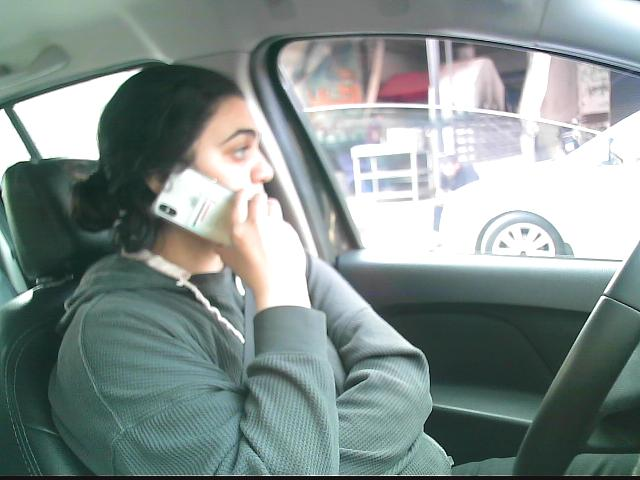PhoneUse: (152, 163, 273, 255)
